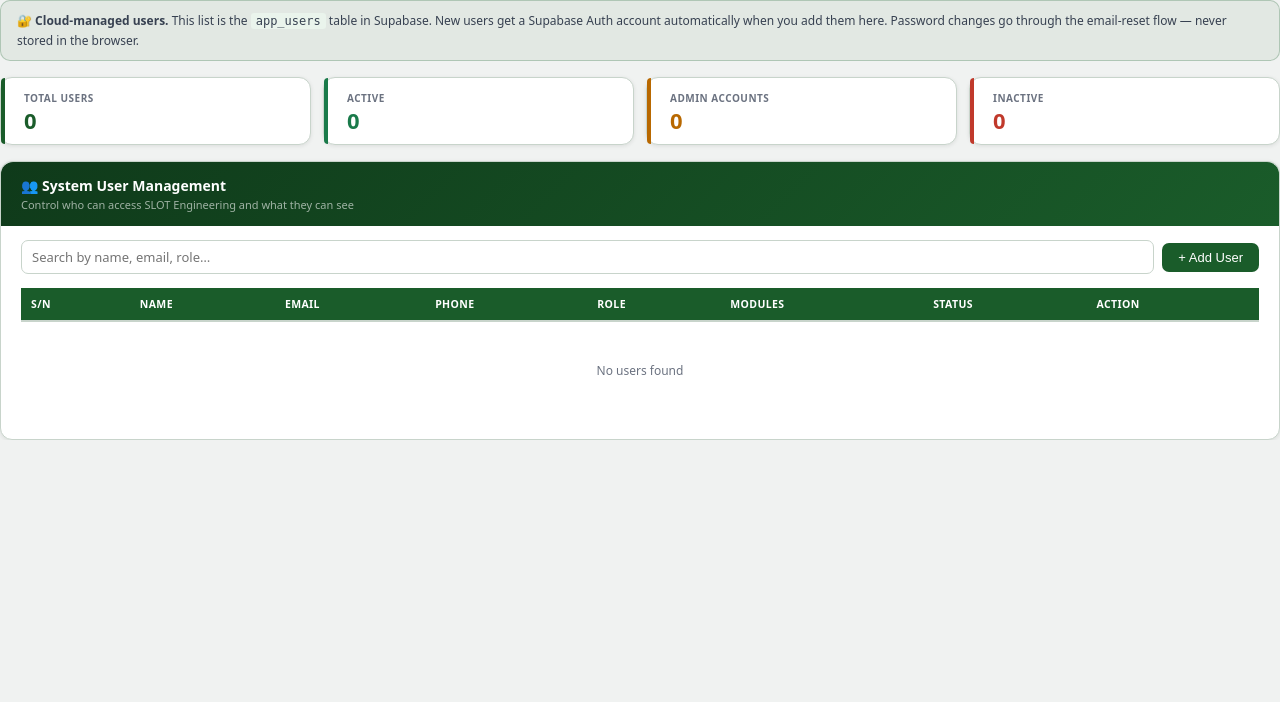
Test case: Users — Add User with cloud login (Supabase configured) › on failure: shows an error and does not add the user — no silent local-only account
The image size is (1280, 702).
Check: the text "No users found" is shown, box 21,321 -> 1259,419
Click the button "+ Add User" at (1211, 257), box 1162,243 -> 1259,272
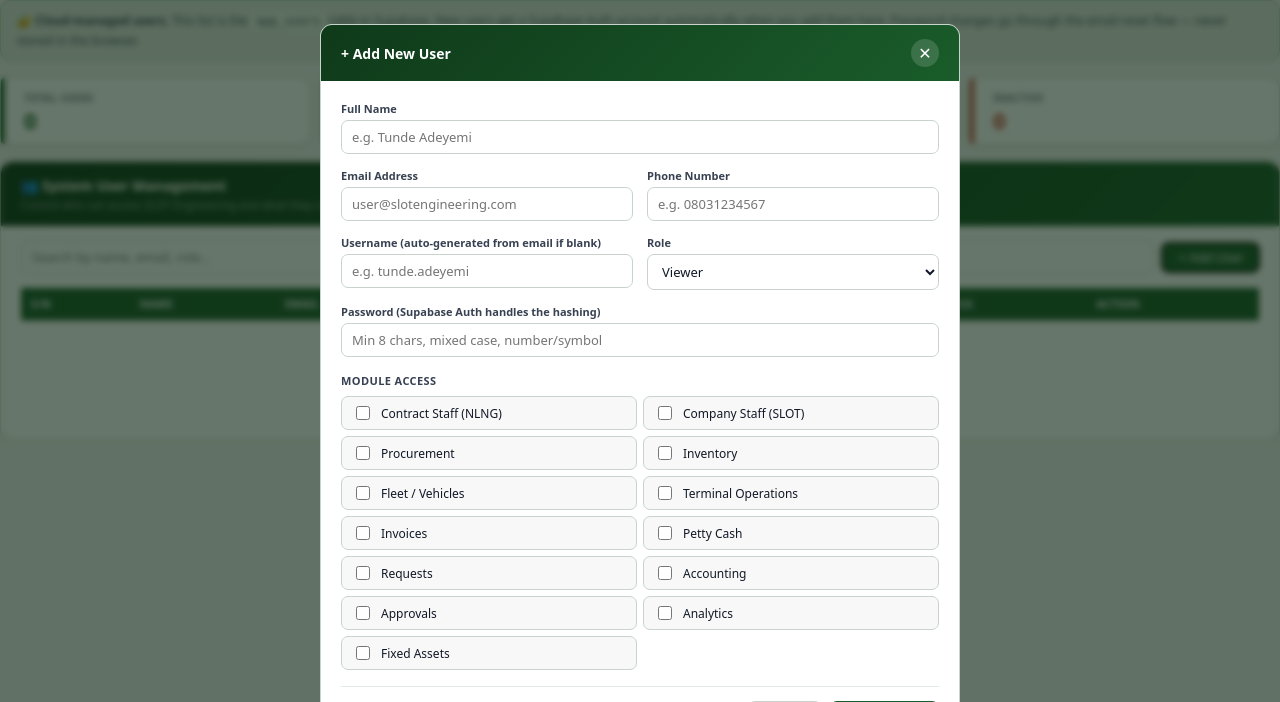
Check: the text "+ Add New User" is shown, box 341,44 -> 451,62
Type "Amaka Nwosu" into the field with placeholder "e.g. Tunde Adeyemi" at (640, 137), box 341,120 -> 939,154
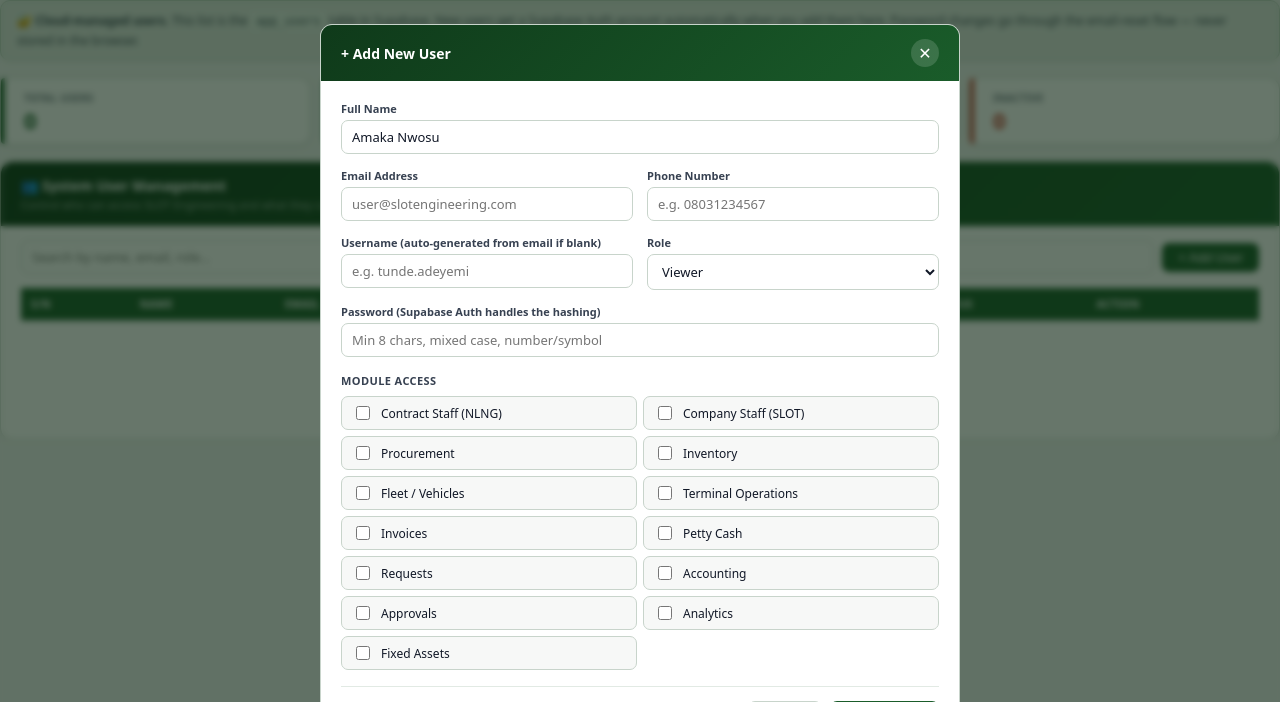
Type "anwosu@slotengineering.com" into the field with placeholder "user@slotengineering.com" at (487, 204), box 341,187 -> 633,221
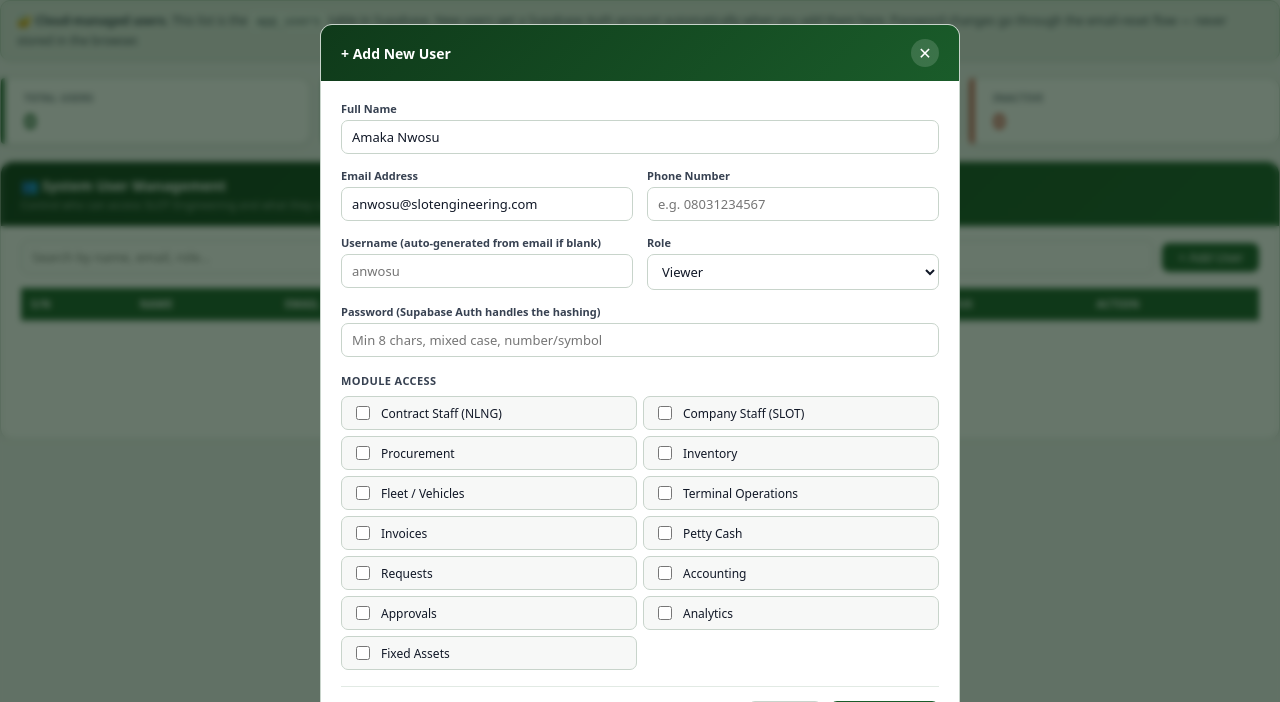
Type "TestPass123!" into the password field with placeholder "Min 8 chars, mixed case, number/symbol" at (640, 340), box 341,323 -> 939,357
(page scrolled)
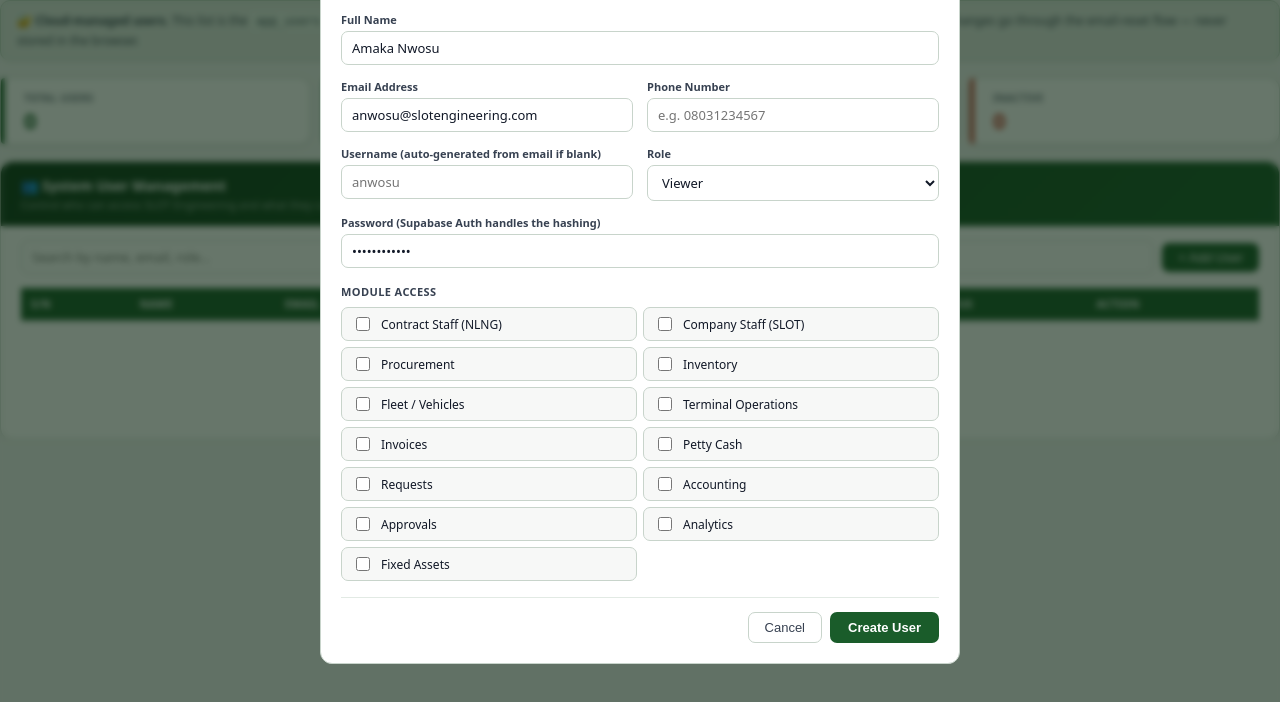
Click the button "Create User" at (884, 628), box 830,612 -> 939,643
(page scrolled)
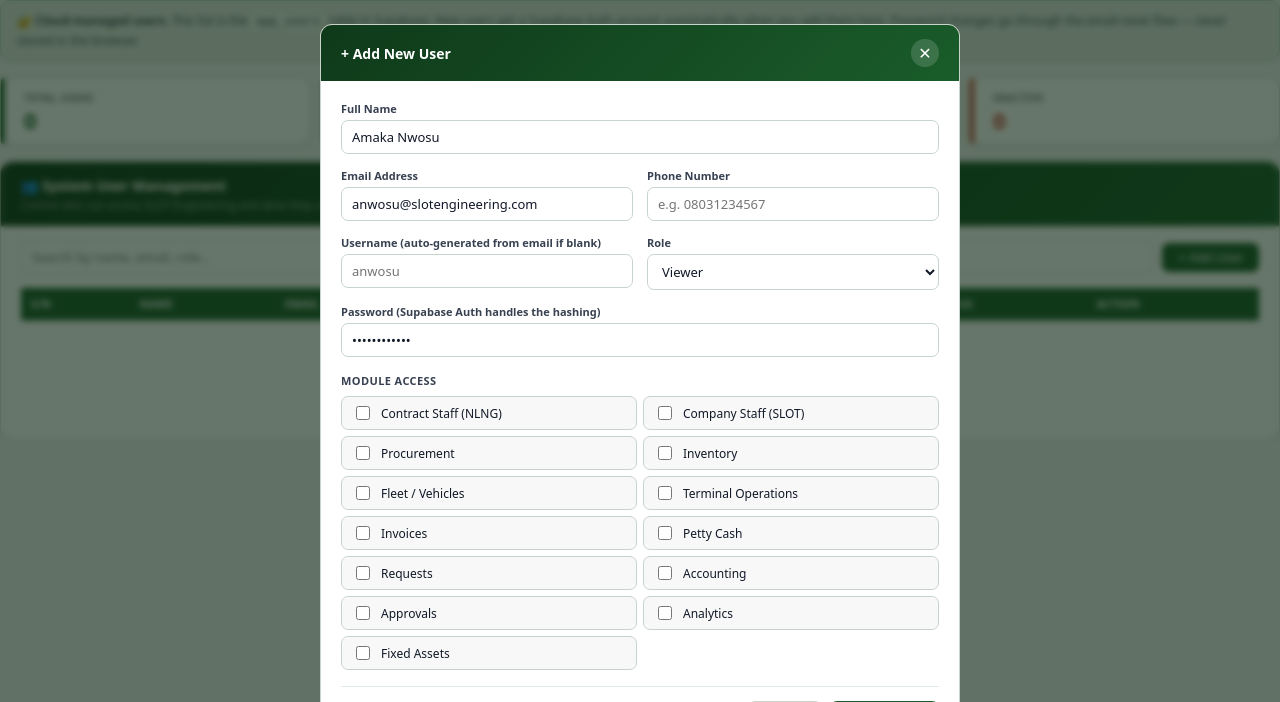
Check: the text "+ Add New User" is shown, box 341,44 -> 451,62
